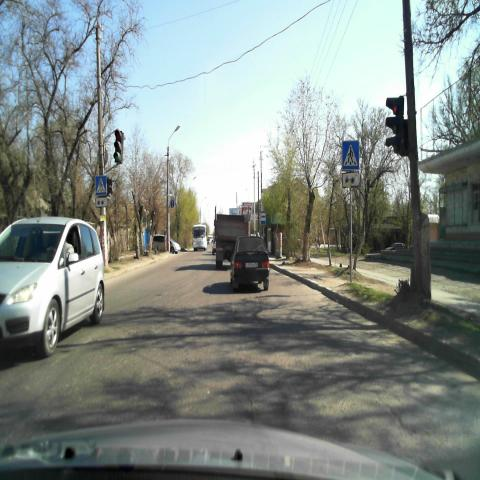8_15: (342, 171, 359, 187)
